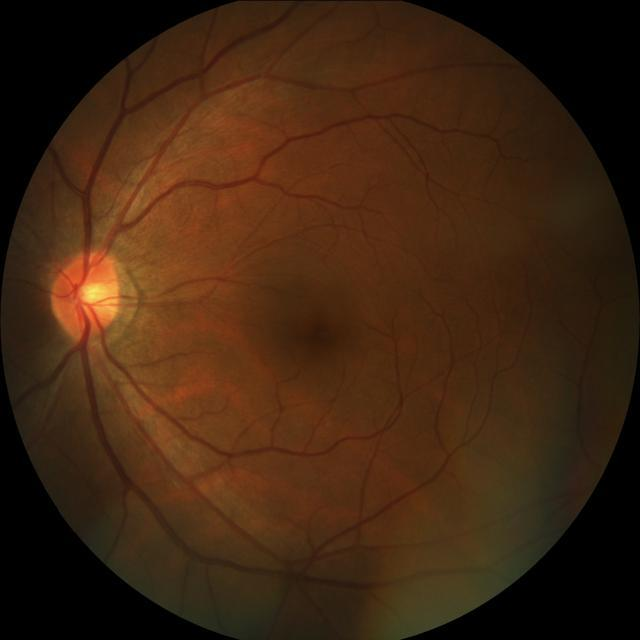OC: (78, 284, 108, 302)
OD: (53, 250, 124, 336)
